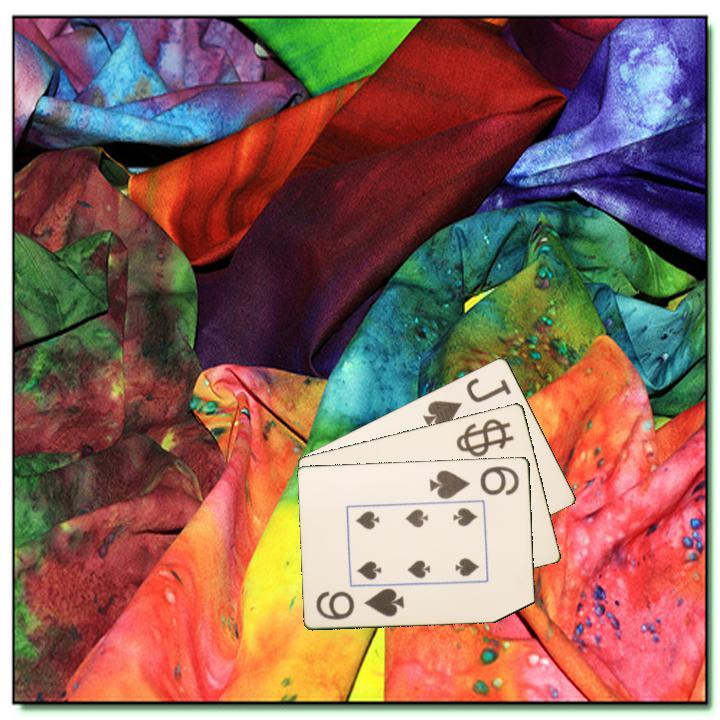6s: (426, 462, 522, 501), (313, 584, 407, 622)
JK: (457, 418, 506, 451)
Js: (419, 373, 514, 431)
